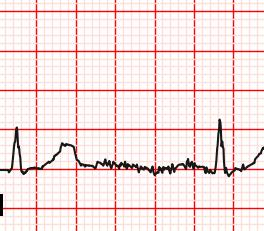LVH: (39, 138, 92, 170)
